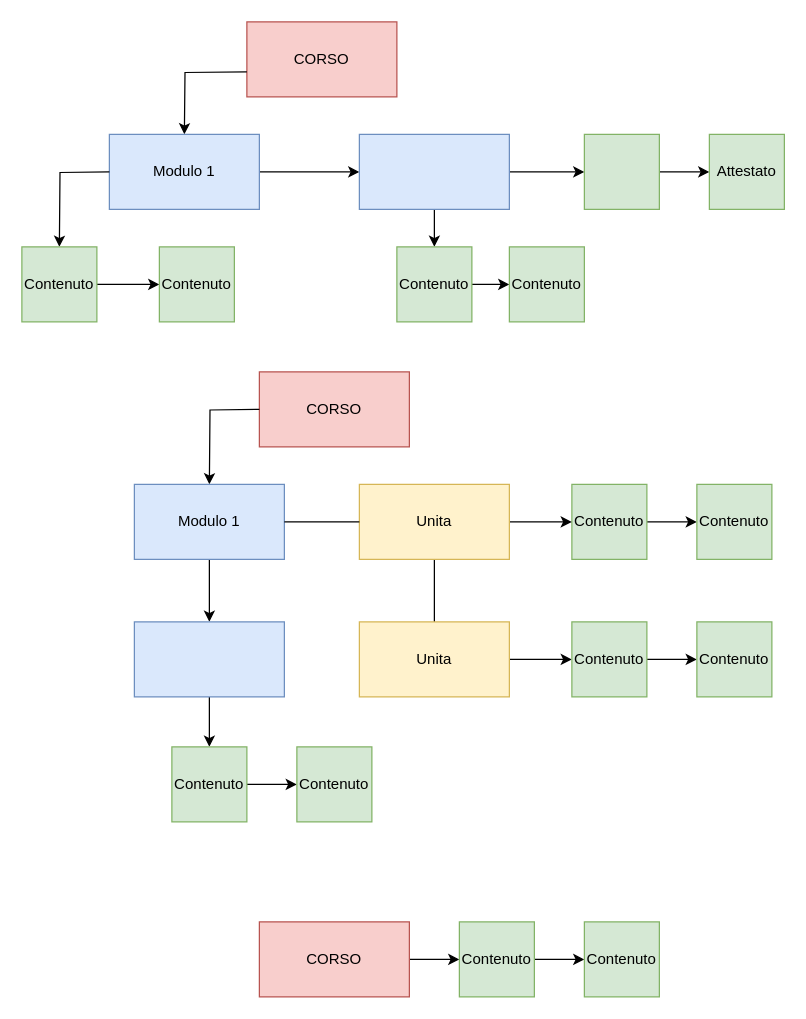
Some shapes in this 806 by 1019 pixel diagram are drawn without their labels. Here are the shapes that lost their labels. From the top down, the centre of each, then its label:
At point (433, 171): "Modulo 2".
At point (621, 171): "Quiz".
At point (208, 659): "Modulo".
